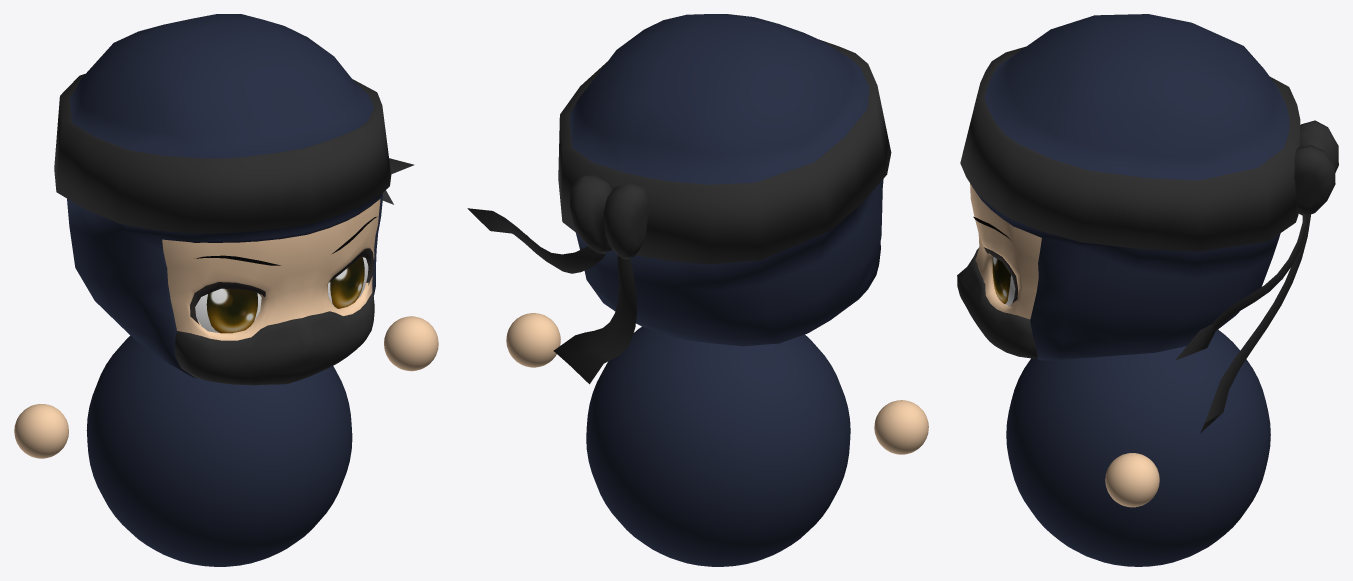
The model's file is ninja.glb.
3 views of the same model, side by side, from view 1: azimuth 30°, elevation 25°; view 2: azimuth 150°, elevation 25°; view 3: azimuth 270°, elevation 25° (orthographic).
Visible parts, largest first — view 1: Ninja_1.001, Ninja_1.skin, Ninja_0, right.skin.hand, left.skin.hand; view 2: Ninja_1.001, left.skin.hand, right.skin.hand; view 3: Ninja_1.001, Ninja_1.skin, right.skin.hand, Ninja_0.
Part boxes in pixels (x1,y1,x2,y2): Ninja_1.001: [54, 14, 414, 566]; Ninja_1.skin: [162, 199, 380, 340]; Ninja_0: [206, 256, 364, 333]; right.skin.hand: [384, 316, 438, 371]; left.skin.hand: [14, 404, 68, 458]; Ninja_1.001: [467, 14, 891, 566]; left.skin.hand: [874, 400, 928, 454]; right.skin.hand: [506, 313, 560, 367]; Ninja_1.001: [957, 14, 1338, 566]; Ninja_1.skin: [970, 183, 1041, 319]; right.skin.hand: [1105, 453, 1159, 507]; Ninja_0: [992, 256, 1010, 303].
Bounding box in the file's own units: 0.3489 × 0.4074 × 0.2707.
Materials: 2 (2 with a texture image).
